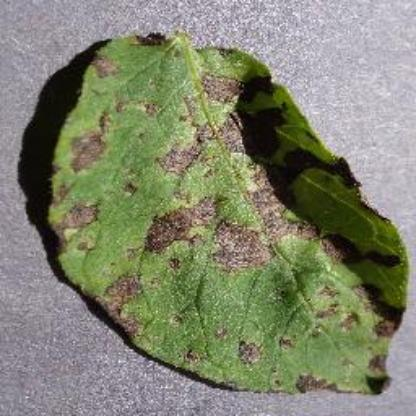Early-Blight: (44, 24, 410, 396)
